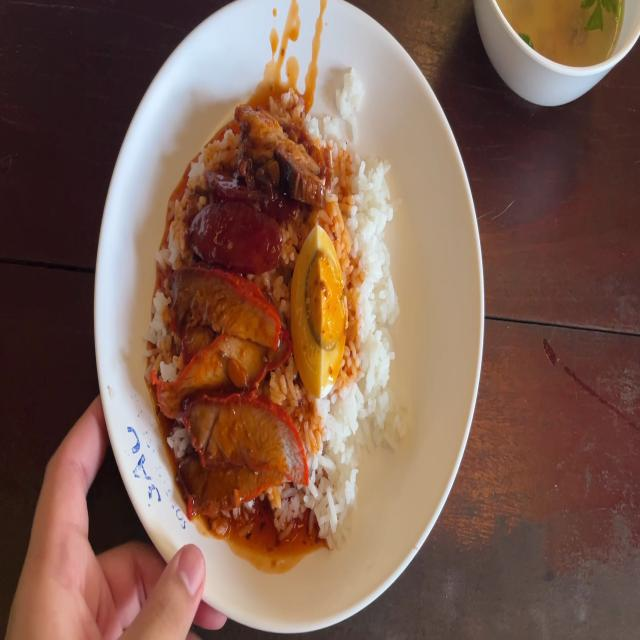01boiled_egg: (290, 224, 349, 390)
01chainese_sausage: (191, 170, 287, 270)
01crispy_pork: (240, 107, 321, 195)
01red_pork: (170, 272, 284, 496)
01red_pork_and_crispy_pork: (162, 98, 394, 515)
01rice: (349, 218, 397, 431), (300, 395, 367, 525), (324, 85, 386, 221)
